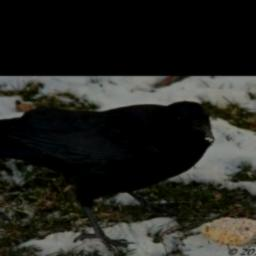Crow: (0, 100, 215, 251)
